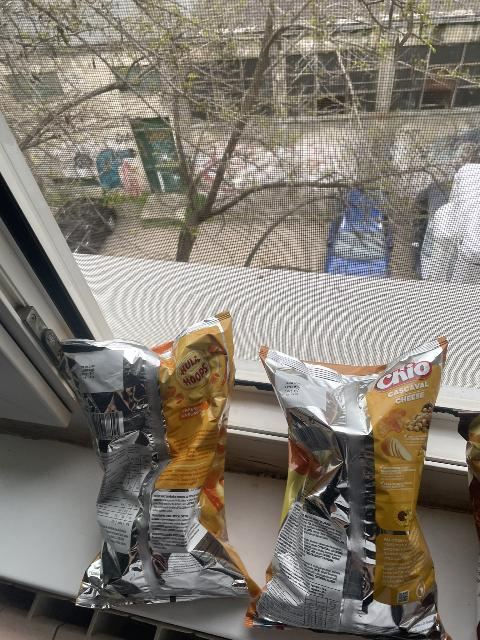Chio Cascaval 125g: (244, 331, 452, 640)
Chio Hula Hoops Cheese 70g: (59, 319, 261, 615)
